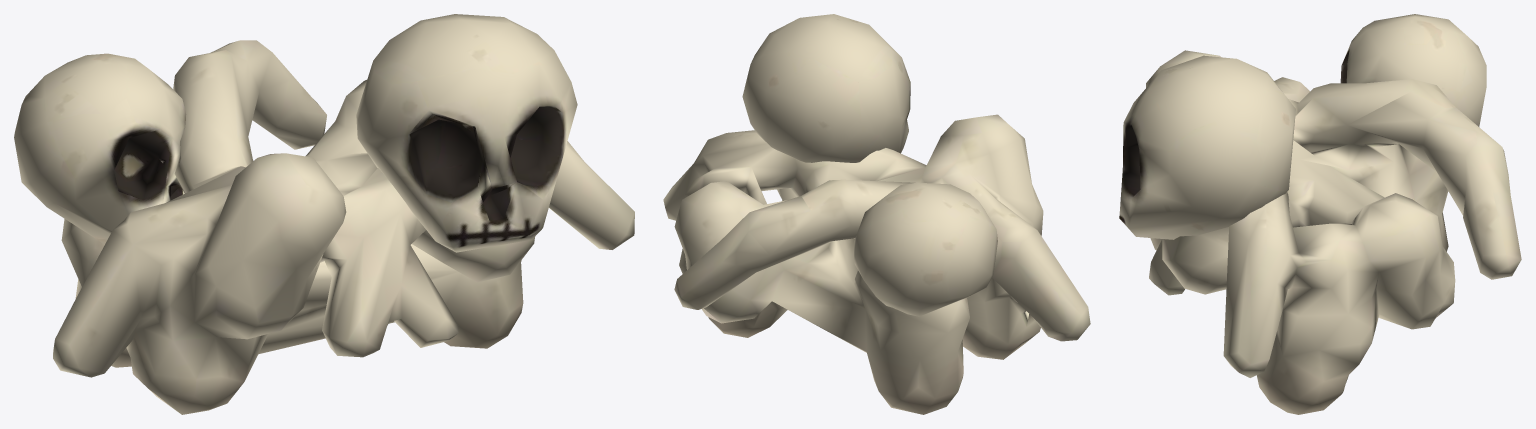
File: bone-pile.glb
3 views of the same model, side by side, from view 1: azimuth 30°, elevation 25°; view 2: azimuth 150°, elevation 25°; view 3: azimuth 270°, elevation 25° (orthographic). The views are drawn at different scales.
Parts seen in each view (by area): view 1: bones; view 2: bones; view 3: bones.
Boxes of the visible parts, x1,y1,x2,y2 form: bones: (14, 14, 634, 414); bones: (663, 14, 1090, 414); bones: (1119, 14, 1521, 414).
Bounding box in the file's own units: 0.5482 × 0.35 × 0.3977.
1 material, 1 textured.
